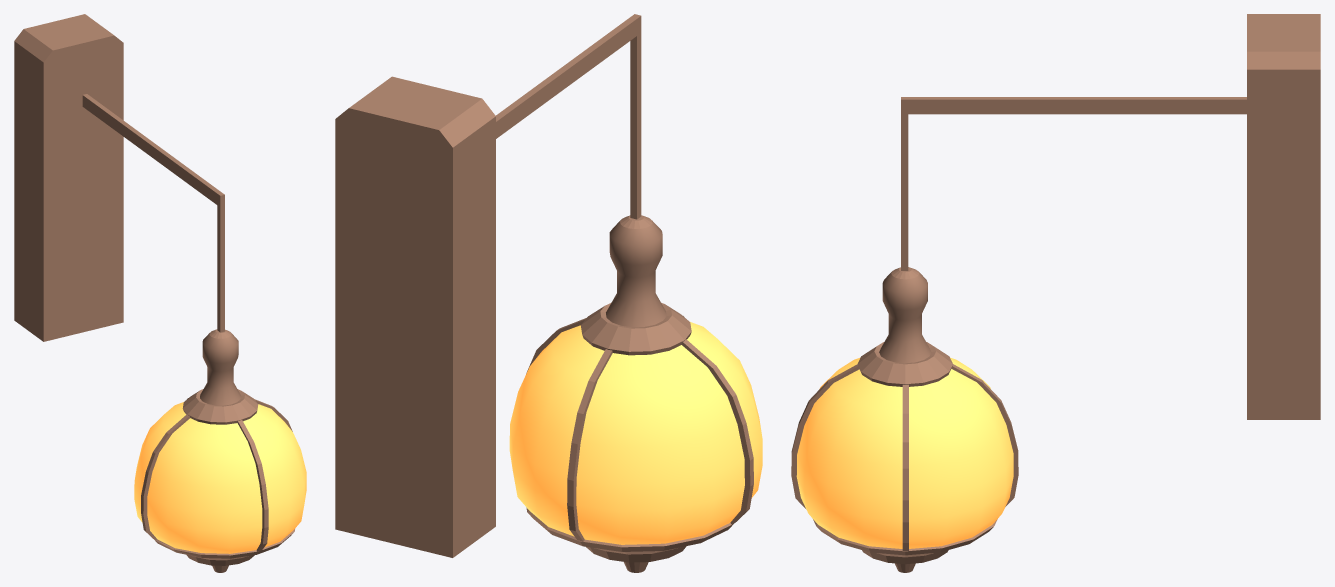
The model's file is BC_InsideLamp.fbx.
The picture shows the model from 3 angles, left to right: view 1: azimuth 30°, elevation 25°; view 2: azimuth 150°, elevation 25°; view 3: azimuth 270°, elevation 25°; orthographic projection. The views are drawn at different scales.
Visible parts, largest first — view 1: BC_InsideLamp; view 2: BC_InsideLamp; view 3: BC_InsideLamp.
Boxes of the visible parts, x1,y1,x2,y2 form: BC_InsideLamp: (14,14,306,572); BC_InsideLamp: (335,14,762,572); BC_InsideLamp: (791,14,1320,572).
Size of the model in its own units: 93.2 by 243 by 217.
